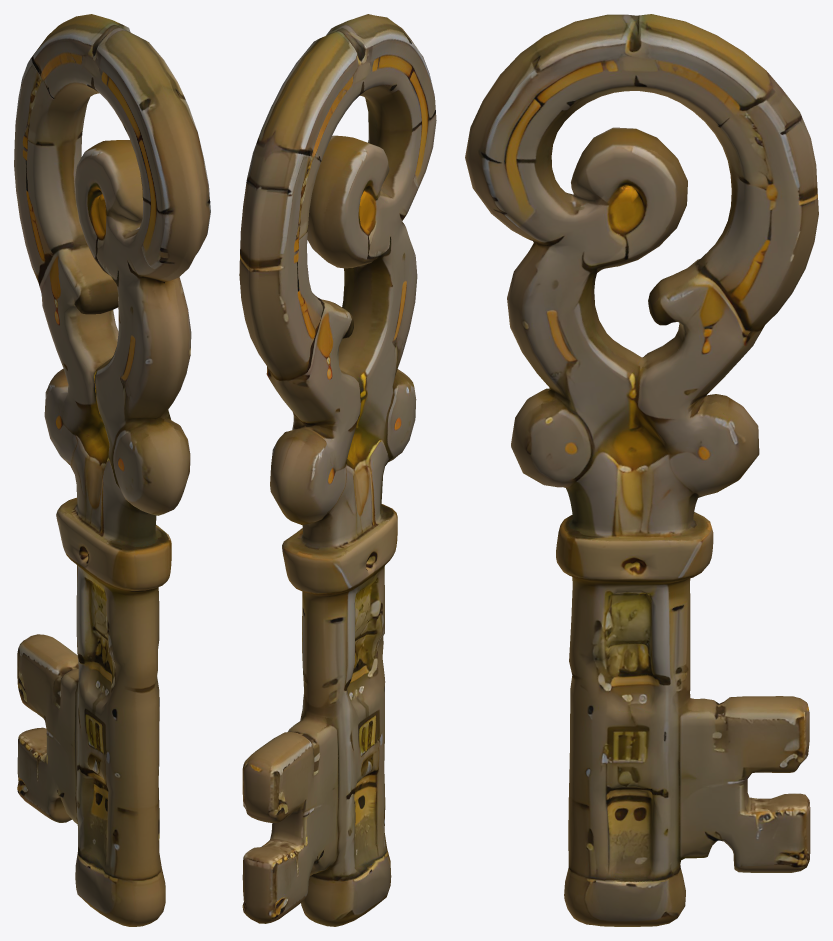
File: antique+key+3d+model.obj
The picture shows the model from 3 angles, left to right: view 1: azimuth 30°, elevation 25°; view 2: azimuth 150°, elevation 25°; view 3: azimuth 270°, elevation 25°; orthographic projection. The views are drawn at different scales.
Visible parts, largest first — view 1: tripo_node_30c9c2ef; view 2: tripo_node_30c9c2ef; view 3: tripo_node_30c9c2ef.
Part boxes in pixels (bbox=[...]): tripo_node_30c9c2ef: bbox=[14, 14, 210, 926]; tripo_node_30c9c2ef: bbox=[239, 14, 436, 926]; tripo_node_30c9c2ef: bbox=[465, 14, 818, 926].
Bounding box in the file's own units: 7.51 × 99.84 × 35.27.
Materials: 1 (1 with a texture image).
